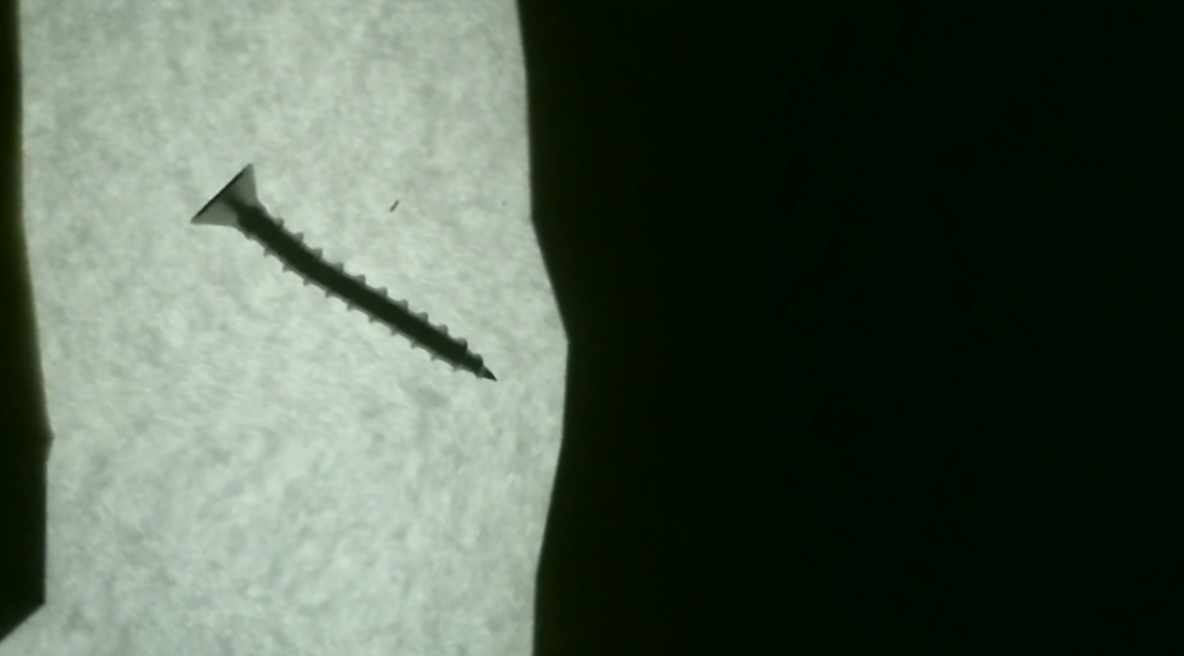S001: (135, 114, 539, 415)
